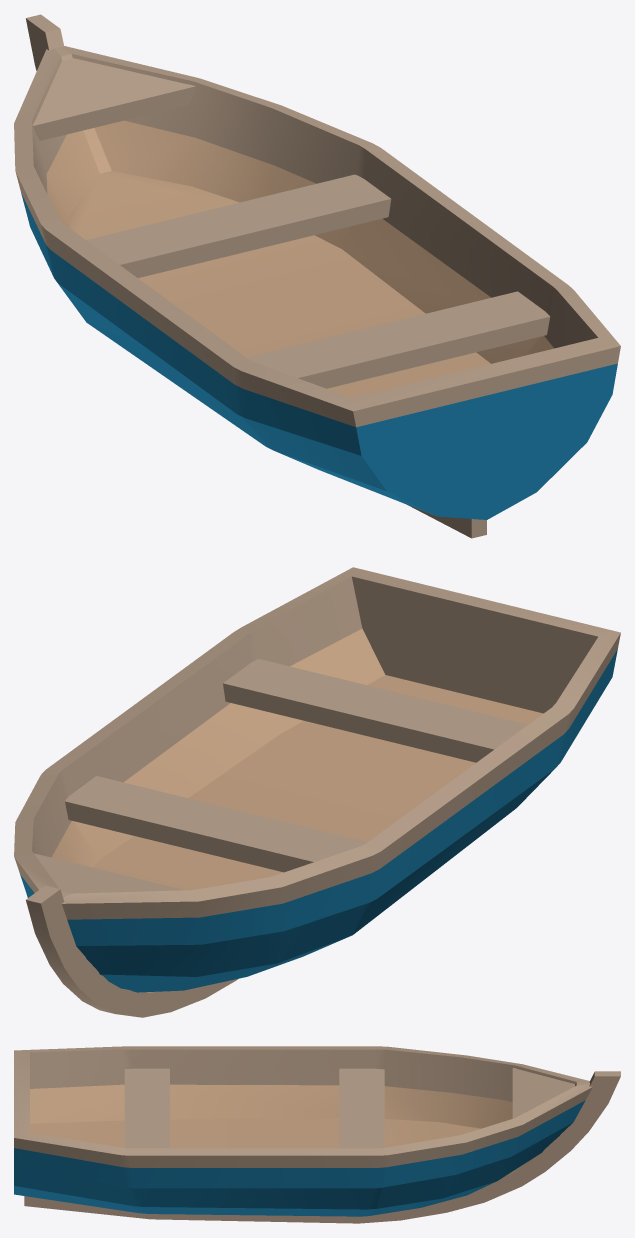
The model's file is boat.fbx.
3 renders of one model, top to bottom at view 1: azimuth 30°, elevation 25°; view 2: azimuth 150°, elevation 25°; view 3: azimuth 270°, elevation 25°, orthographic. The views are drawn at different scales.
Parts seen in each view (by area): view 1: boat; view 2: boat; view 3: boat.
Part boxes in pixels (bbox=[...]): boat: bbox=[14, 14, 620, 538]; boat: bbox=[14, 567, 620, 1017]; boat: bbox=[14, 1046, 620, 1223].
Size of the model in its own units: 204 by 128 by 478.
